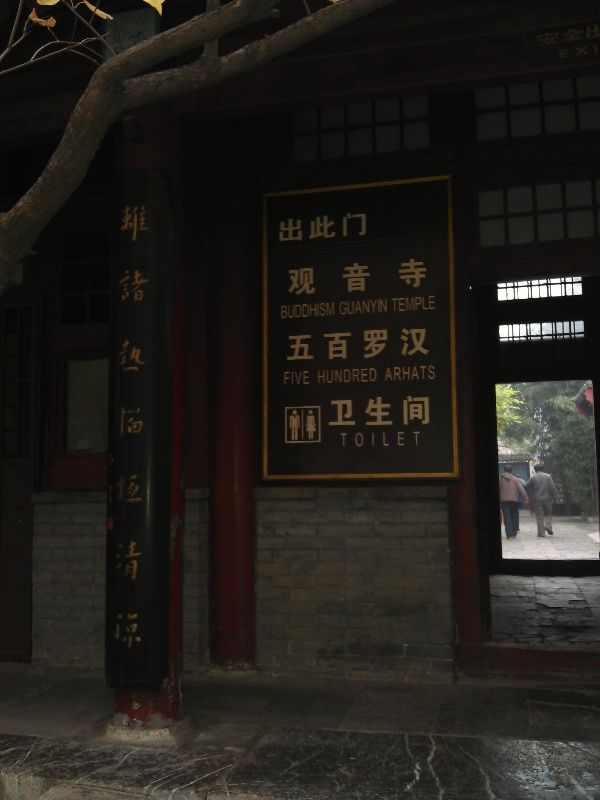text: (129, 201, 144, 653), (119, 201, 128, 653), (145, 201, 152, 653), (289, 258, 304, 296), (305, 258, 320, 296), (321, 258, 336, 296), (337, 258, 352, 296), (353, 258, 368, 296), (369, 258, 384, 296), (385, 258, 400, 296), (401, 258, 416, 296), (289, 326, 304, 361), (305, 326, 320, 361), (321, 326, 336, 361), (337, 326, 352, 361), (353, 326, 368, 361), (369, 326, 384, 361), (385, 326, 400, 361), (401, 326, 416, 361), (337, 395, 352, 428), (353, 395, 368, 428), (369, 395, 384, 428), (385, 395, 400, 428), (401, 395, 416, 428), (417, 395, 432, 428), (289, 212, 304, 244), (305, 212, 320, 244), (321, 212, 336, 244), (337, 212, 352, 244), (353, 212, 368, 244), (417, 326, 430, 361), (417, 258, 427, 296), (278, 212, 288, 244), (327, 395, 336, 428), (289, 301, 304, 320), (305, 301, 320, 320), (321, 301, 336, 320), (353, 430, 368, 449), (369, 430, 384, 449), (385, 430, 400, 449), (401, 430, 416, 449), (401, 295, 416, 313), (417, 295, 432, 313), (321, 368, 336, 385), (337, 368, 352, 385), (353, 368, 368, 385), (289, 371, 304, 387), (385, 366, 400, 382), (401, 366, 416, 382), (417, 366, 432, 382), (340, 430, 352, 449), (353, 300, 368, 315), (369, 300, 384, 315), (339, 300, 352, 315), (391, 295, 400, 313), (369, 368, 378, 385), (280, 301, 288, 320), (305, 371, 311, 387), (417, 430, 422, 449), (433, 366, 438, 382), (433, 295, 437, 313), (316, 368, 320, 385), (284, 371, 288, 387), (385, 300, 389, 315), (287, 326, 288, 361)
